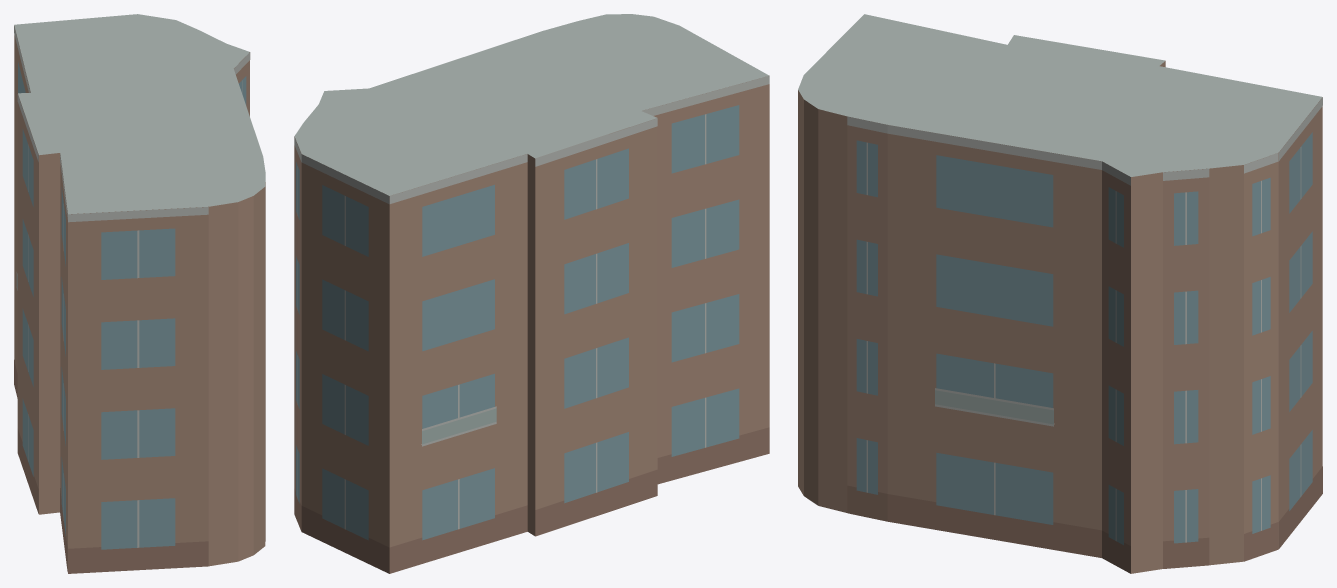
Rendered from survey-upis-32963535.glb.
3 views of the same model, side by side, from view 1: azimuth 30°, elevation 25°; view 2: azimuth 150°, elevation 25°; view 3: azimuth 270°, elevation 25° (orthographic). The views are drawn at different scales.
Visible parts, largest first — view 1: survey-upis-32963535.tmp; view 2: survey-upis-32963535.tmp; view 3: survey-upis-32963535.tmp.
Boxes of the visible parts, box(x1,y1,x2,y2) form: survey-upis-32963535.tmp: box(14, 14, 265, 573); survey-upis-32963535.tmp: box(294, 14, 769, 573); survey-upis-32963535.tmp: box(798, 14, 1322, 573).
Bounding box in the file's own units: 9.7 × 11 × 13.19.
